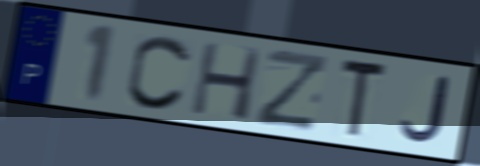1: (81, 22, 118, 105)
C: (124, 32, 195, 113)
H: (188, 39, 265, 123)
J: (398, 74, 452, 146)
T: (338, 55, 390, 141)
Z: (252, 45, 332, 133)
